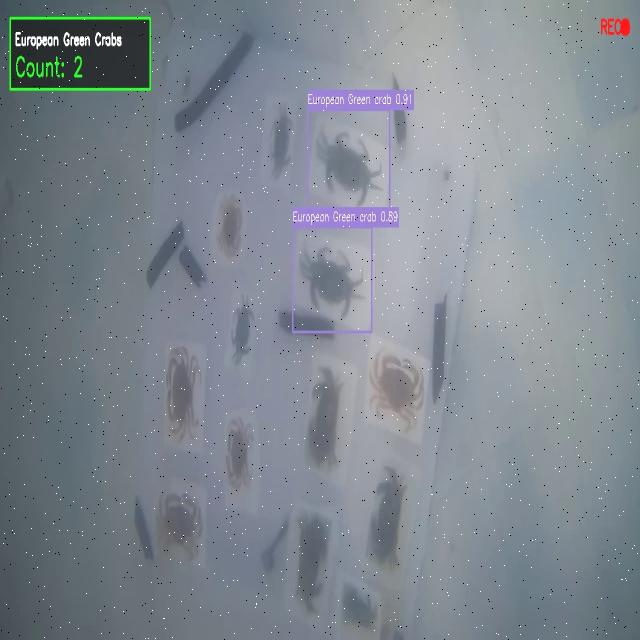European_Green_Crab: (309, 114, 388, 214), (290, 230, 364, 332), (221, 292, 257, 377), (264, 105, 294, 182)
